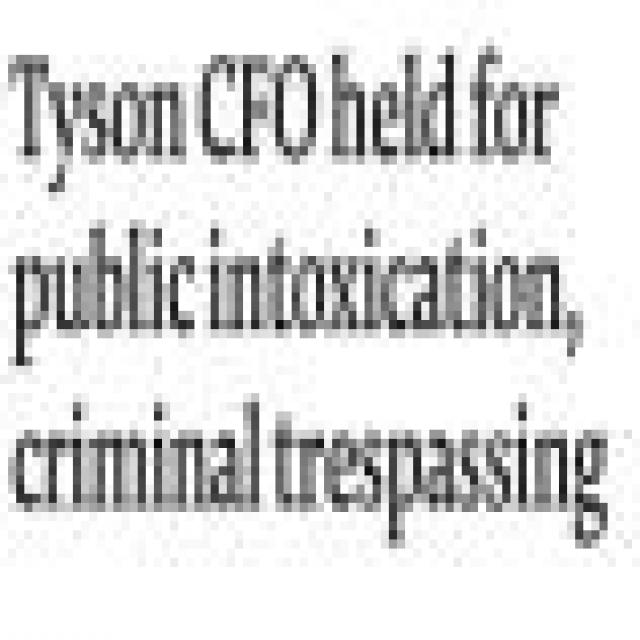paper: (8, 9, 640, 640)
